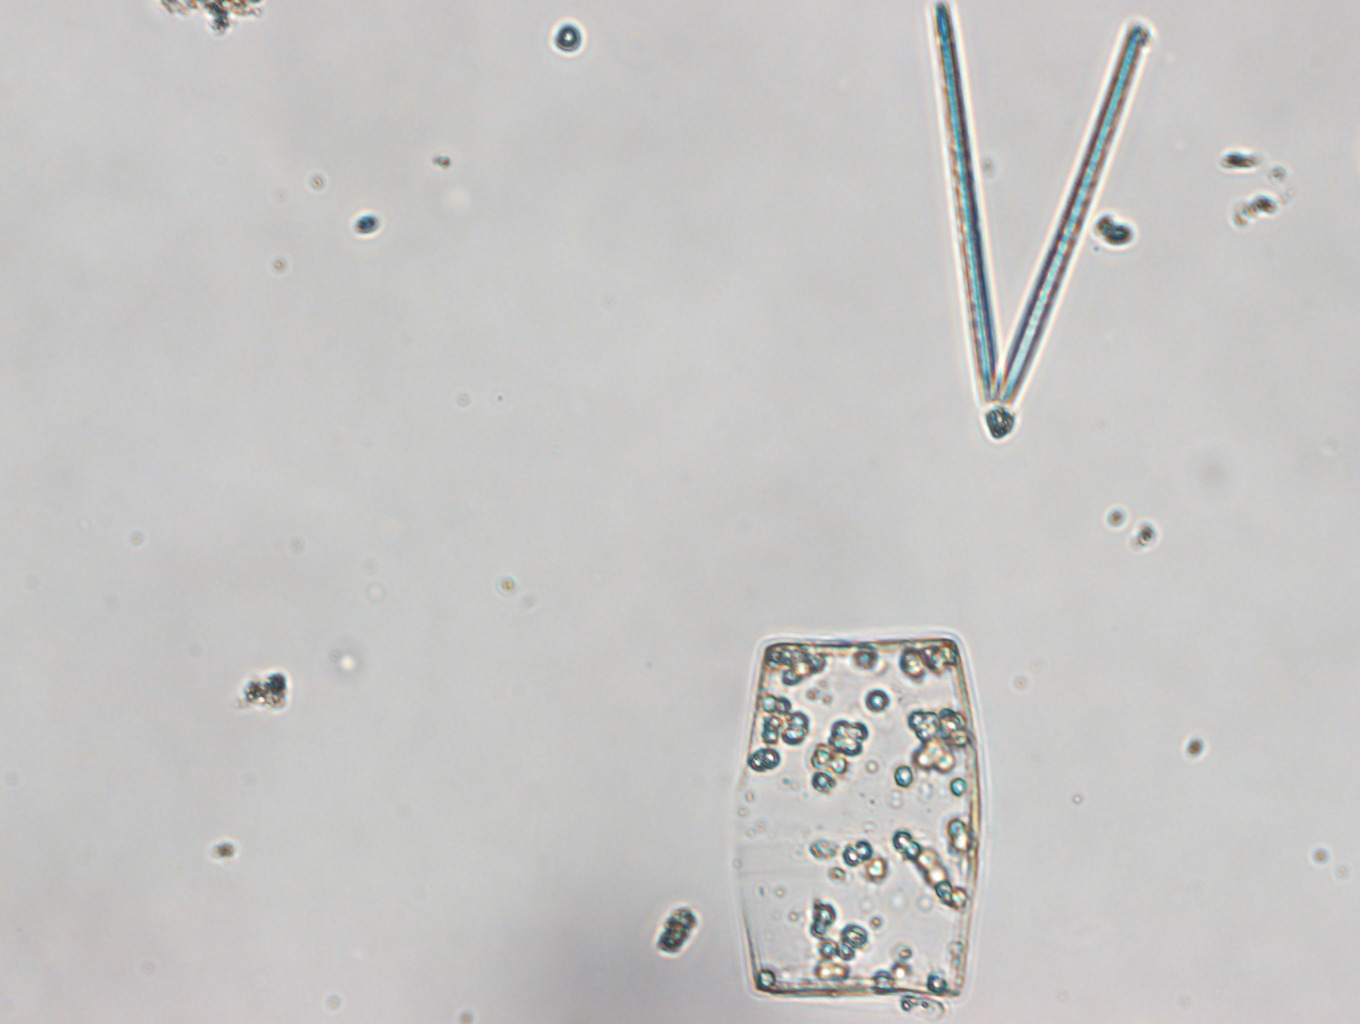guinardia flaccida: (724, 611, 986, 1012)
thalassionema frauenfeldii: (903, 9, 1151, 412)
